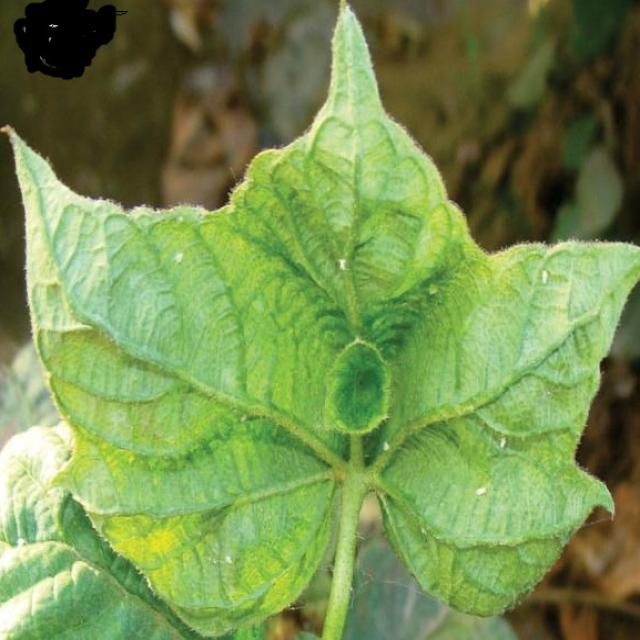Leaf Curl Virus: (32, 166, 575, 582)
